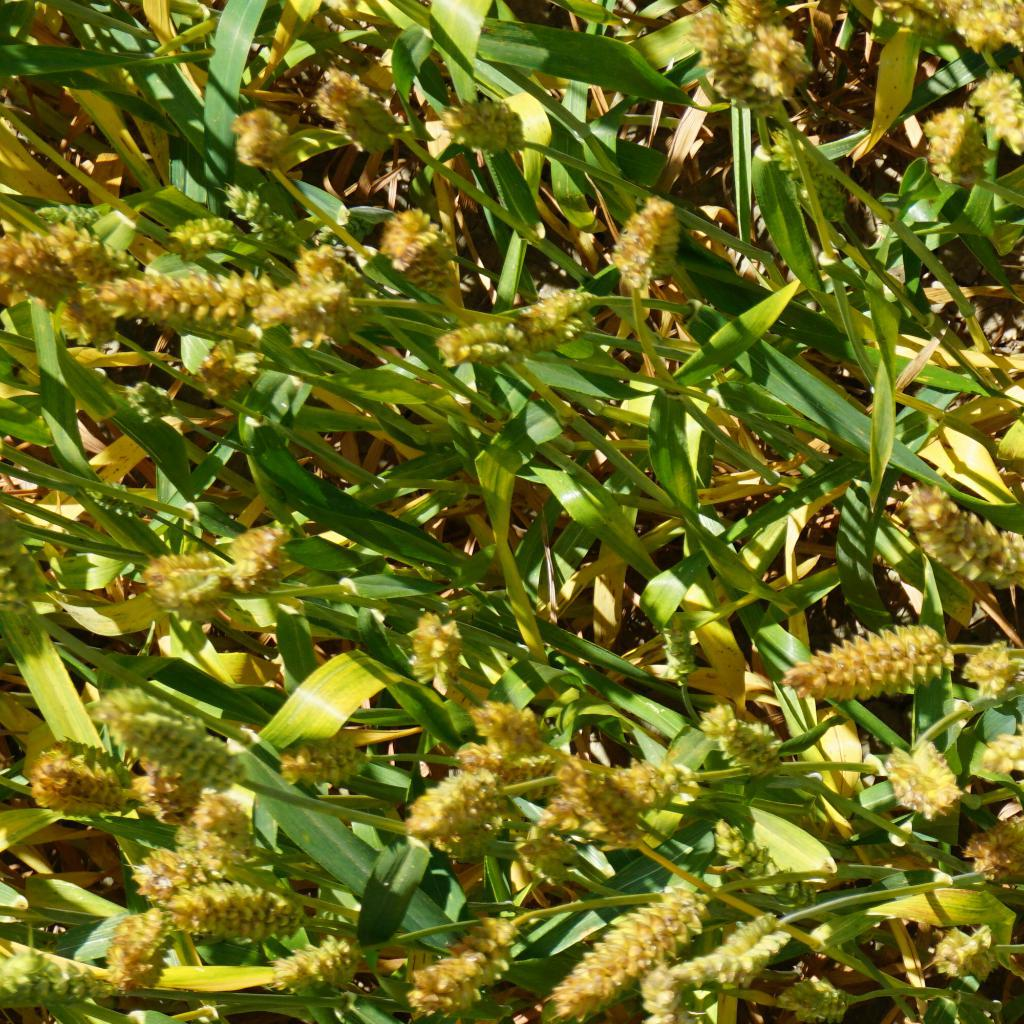0-0: (543, 886, 688, 1024), (790, 608, 952, 692), (907, 479, 1024, 584), (1, 239, 109, 335), (375, 202, 461, 306), (115, 715, 244, 783), (709, 823, 813, 905), (169, 876, 304, 938), (314, 65, 400, 162), (429, 911, 513, 1007), (103, 267, 244, 324), (766, 126, 847, 223), (611, 186, 689, 283), (689, 914, 795, 985), (917, 95, 988, 197), (557, 762, 643, 846), (735, 0, 810, 96), (29, 740, 122, 812), (469, 692, 564, 762), (252, 281, 358, 342), (100, 903, 176, 985), (446, 738, 559, 793), (632, 958, 725, 1024), (960, 62, 1024, 157), (884, 739, 967, 812), (439, 92, 537, 153), (103, 676, 193, 742), (415, 769, 506, 833), (226, 180, 311, 247), (692, 5, 751, 98), (228, 524, 308, 592), (143, 548, 233, 608), (0, 953, 102, 1004), (400, 608, 464, 687), (695, 705, 776, 763), (39, 216, 131, 267), (438, 307, 520, 364), (139, 841, 234, 888), (772, 969, 853, 1024), (504, 822, 571, 887), (228, 103, 286, 178), (648, 600, 704, 676), (283, 728, 359, 783), (280, 934, 354, 989), (975, 804, 1024, 884), (155, 216, 238, 263), (26, 201, 120, 242), (952, 3, 1024, 51), (187, 795, 256, 844), (932, 930, 1004, 975), (0, 546, 48, 612), (516, 285, 595, 325), (982, 700, 1024, 775), (965, 638, 1024, 689), (124, 369, 183, 418), (193, 344, 248, 396), (290, 243, 355, 285), (131, 762, 192, 806), (521, 307, 581, 345), (86, 473, 133, 516)
